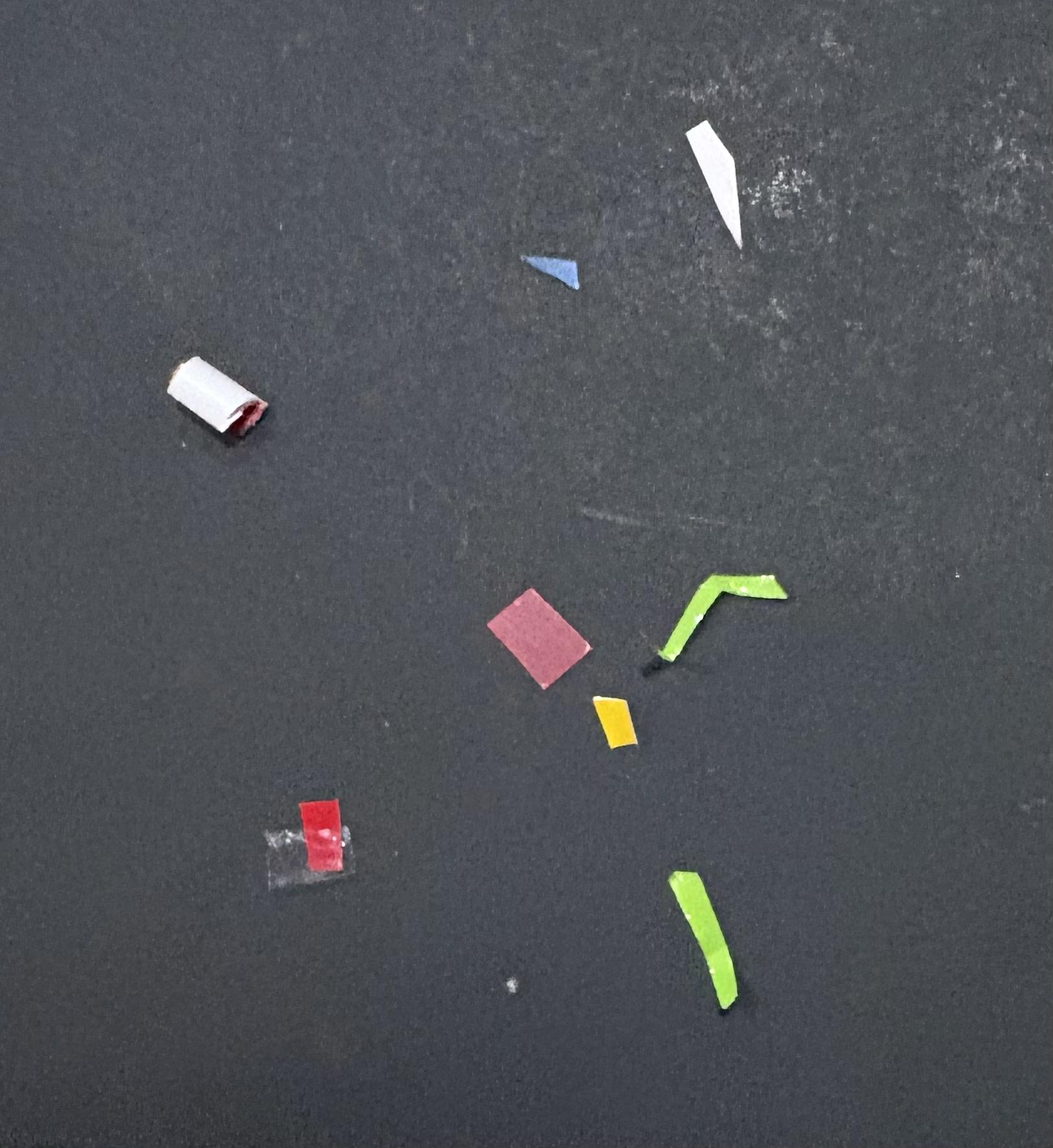Microplastic Particle: (640, 572, 792, 676), (662, 862, 753, 1015), (485, 587, 593, 689), (166, 355, 272, 446), (263, 800, 356, 890), (684, 119, 743, 251), (575, 691, 653, 750), (520, 254, 580, 290), (505, 977, 518, 995)
